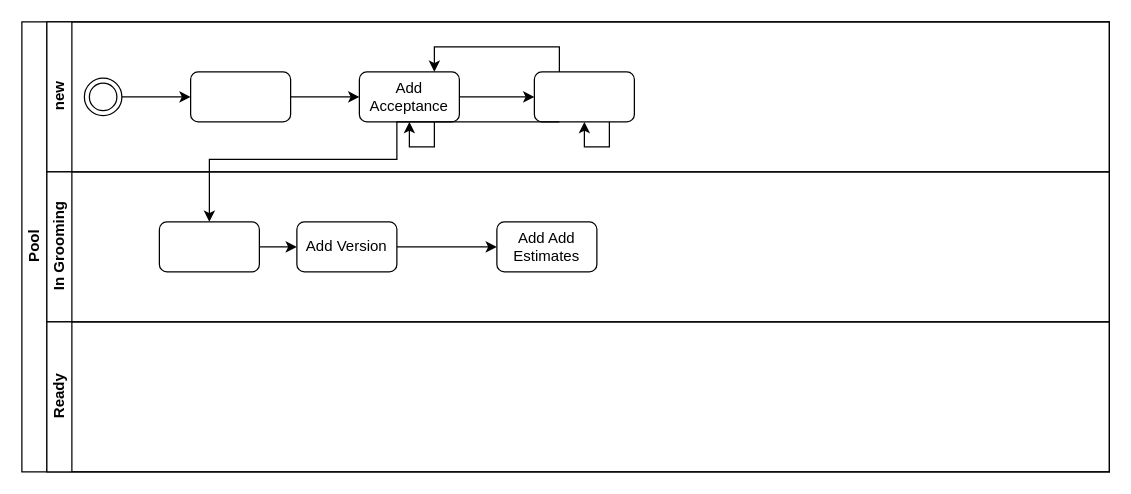
Image size: 1131x494. Some labels were removed from this diagram. The shapes that lost their labels are listed below. From the top down, each one's centre as x and y in pixels, then its label:
At (240,96): "Add Epic".
At (583,96): "Add Description".
At (208,246): "Add Labels".
